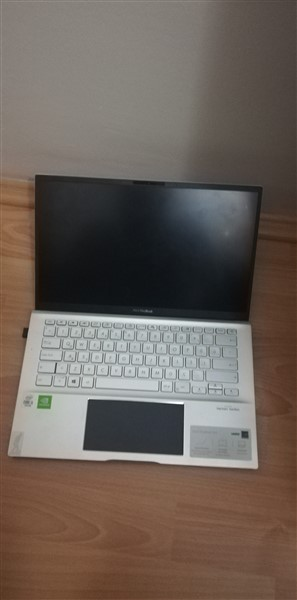laptop: (13, 171, 273, 474)
